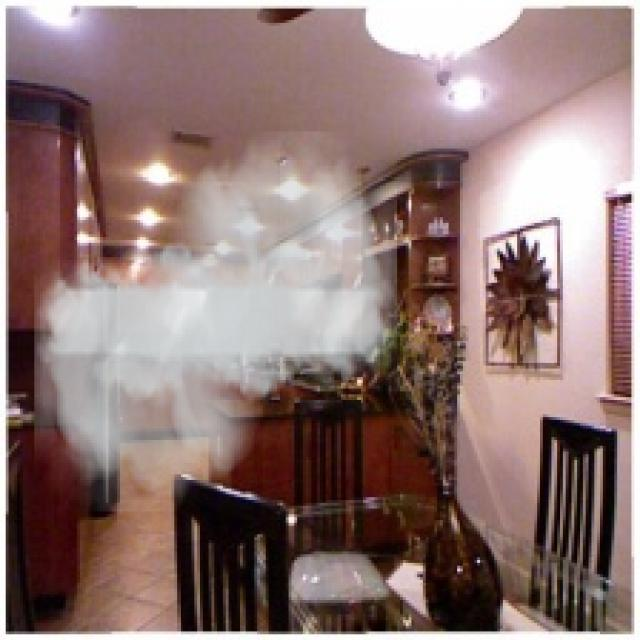smoke: (34, 132, 397, 512)
